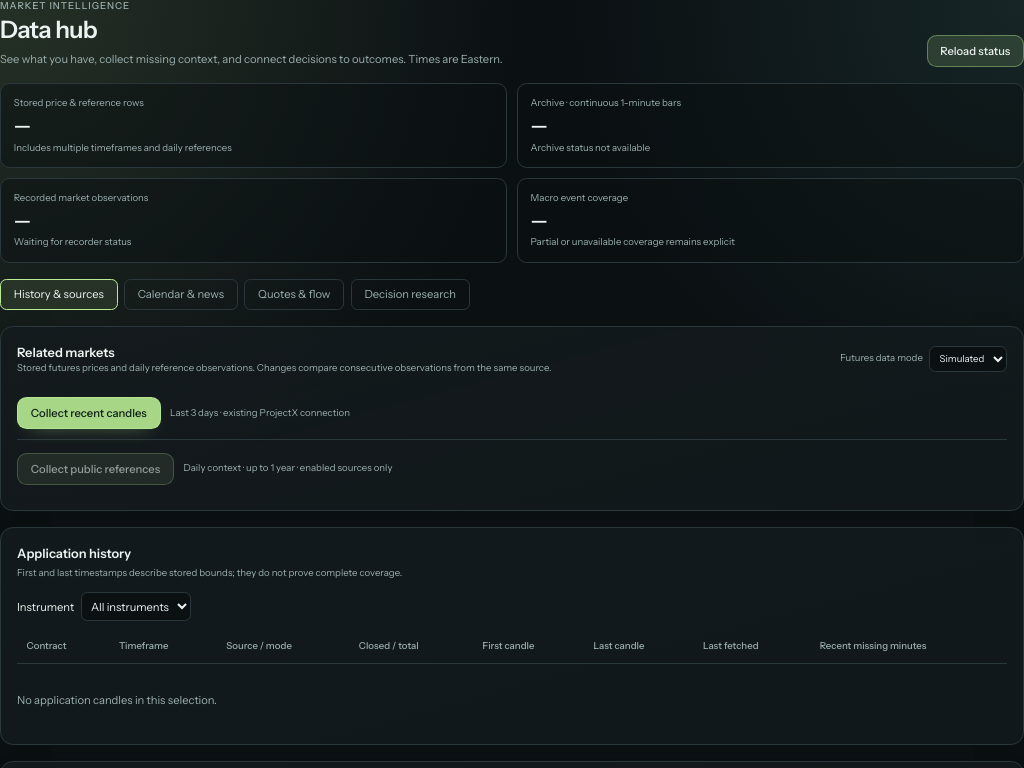
Data hub › shows the full date-only meeting range without inventing an announcement time
What coordinates should you click on to do the following:
click the button "Calendar & news"
I would click on:
 (181, 294)
Its box is [124,279,238,310].
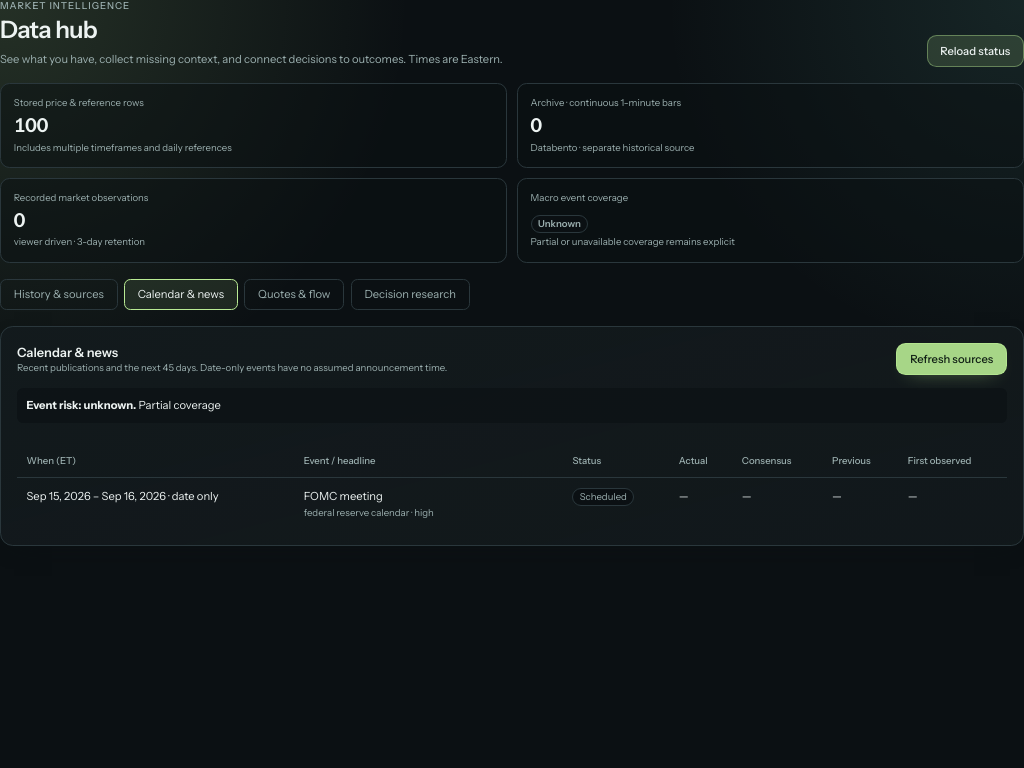
Check: the text "Sep 15, 2026 – Sep 16, 2026 · date only" is shown, box [17,478,294,529]
